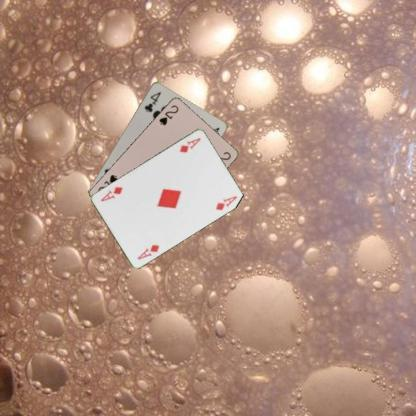2s: (156, 102, 180, 127)
4c: (141, 88, 162, 113)
Ad: (176, 135, 202, 154), (136, 242, 160, 260)
